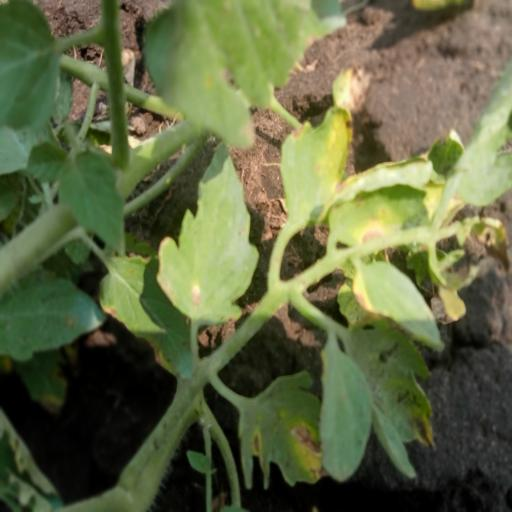Tomato_Brown_Spots: (157, 140, 259, 326), (329, 130, 474, 251), (280, 56, 376, 230), (342, 316, 438, 483), (236, 371, 336, 494)
